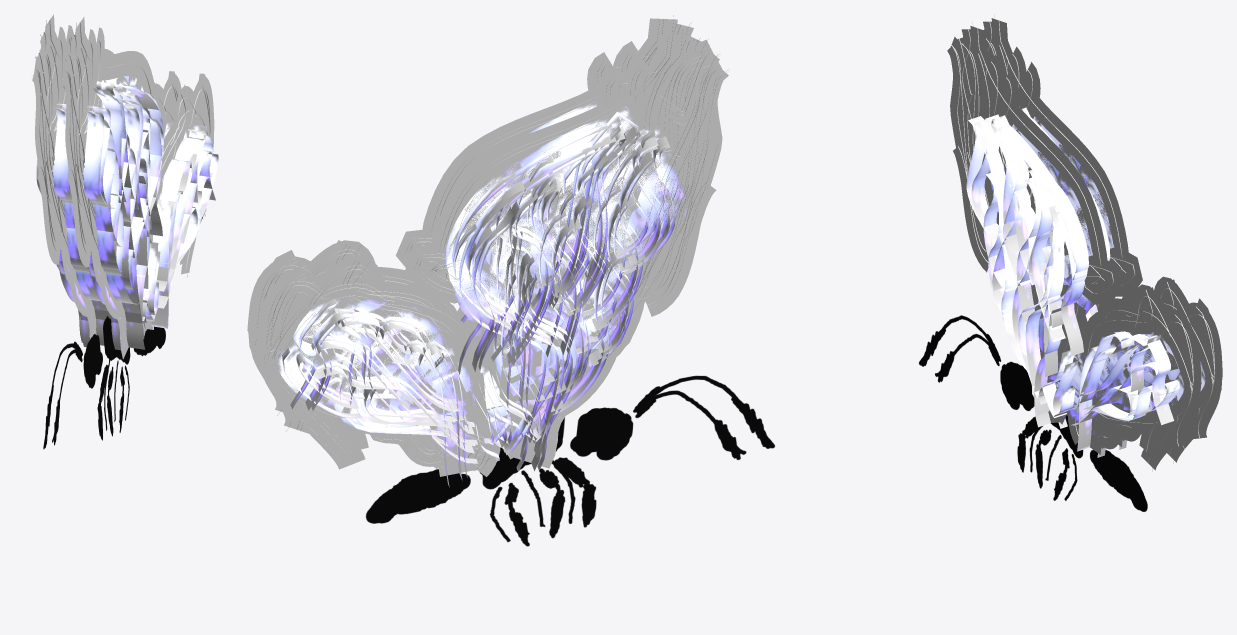
The model's file is butterfly.glb.
3 renders of one model, left to right at view 1: azimuth 30°, elevation 25°; view 2: azimuth 150°, elevation 25°; view 3: azimuth 270°, elevation 25°, orthographic. The views are drawn at different scales.
Visible parts, largest first — view 1: BézierCurve.005, BézierCurve.004, BézierCurve.006, BézierCurve.007, butterfly; view 2: BézierCurve.007, BézierCurve.006, butterfly, BézierCurve.004; view 3: BézierCurve.005, BézierCurve.004, BézierCurve.006, butterfly, BézierCurve.007.
Boxes of the visible parts, <box> form: BézierCurve.005: <box>69,76,218,359</box>; BézierCurve.004: <box>62,17,214,336</box>; BézierCurve.006: <box>31,14,181,317</box>; BézierCurve.007: <box>36,86,172,347</box>; butterfly: <box>43,316,165,449</box>; BézierCurve.007: <box>276,106,686,487</box>; BézierCurve.006: <box>256,30,729,476</box>; butterfly: <box>366,375,774,546</box>; BézierCurve.004: <box>247,15,720,415</box>; BézierCurve.005: <box>966,114,1184,457</box>; BézierCurve.004: <box>947,22,1201,471</box>; BézierCurve.006: <box>983,14,1222,463</box>; butterfly: <box>919,315,1147,511</box>; BézierCurve.007: <box>1021,107,1205,449</box>.
Size of the model in its own units: 0.3359 by 0.4707 by 0.2842.
3 materials, 3 textured.
